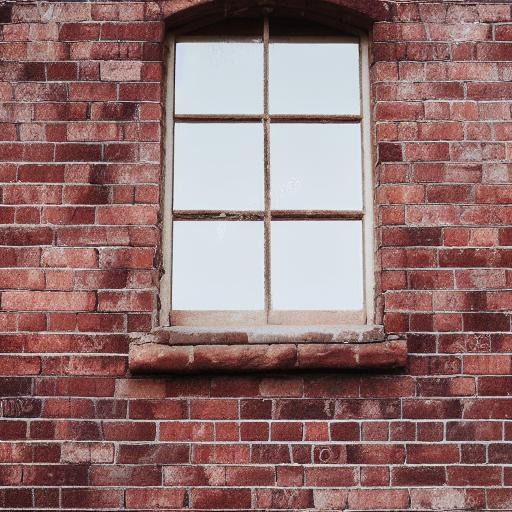Window: (129, 1, 412, 373)
